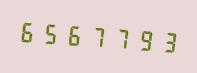five: (40, 16, 62, 50)
nine: (132, 22, 154, 56)
seven: (109, 20, 131, 55), (86, 19, 108, 53)
six: (63, 17, 85, 52), (17, 14, 39, 48)
three: (155, 24, 177, 58)
